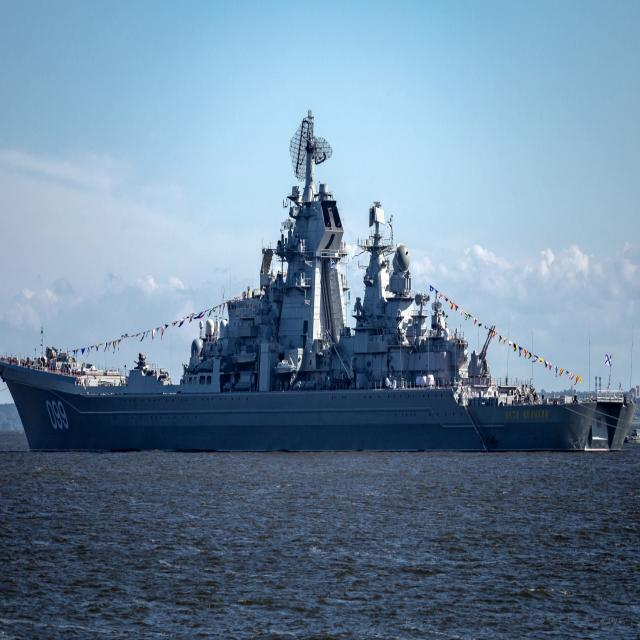navalvessels: (2, 114, 634, 462)
